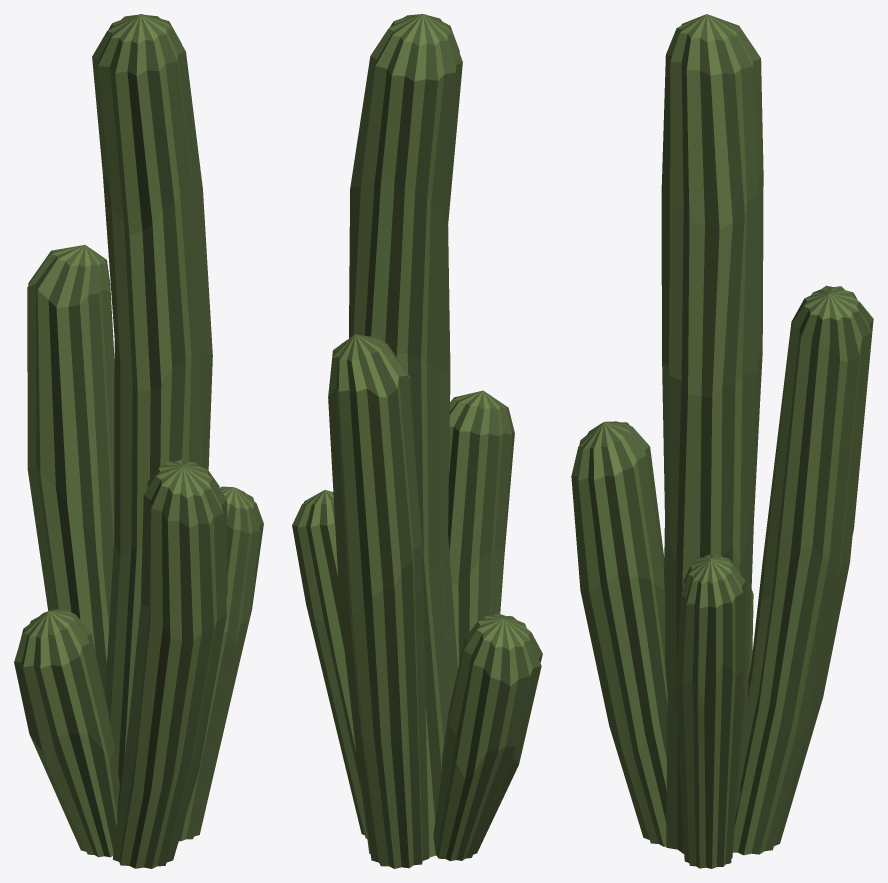
File: Cactus-5.fbx
The picture shows the model from 3 angles, left to right: view 1: azimuth 30°, elevation 25°; view 2: azimuth 150°, elevation 25°; view 3: azimuth 270°, elevation 25°; orthographic projection.
Parts seen in each view (by area): view 1: SM_Env_Cactus_05; view 2: SM_Env_Cactus_05; view 3: SM_Env_Cactus_05.
Boxes of the visible parts, box(x1,y1,x2,y2) form: SM_Env_Cactus_05: box(14, 14, 263, 868); SM_Env_Cactus_05: box(292, 14, 542, 868); SM_Env_Cactus_05: box(571, 14, 873, 868).
Size of the model in its own units: 92.87 by 305 by 101.
